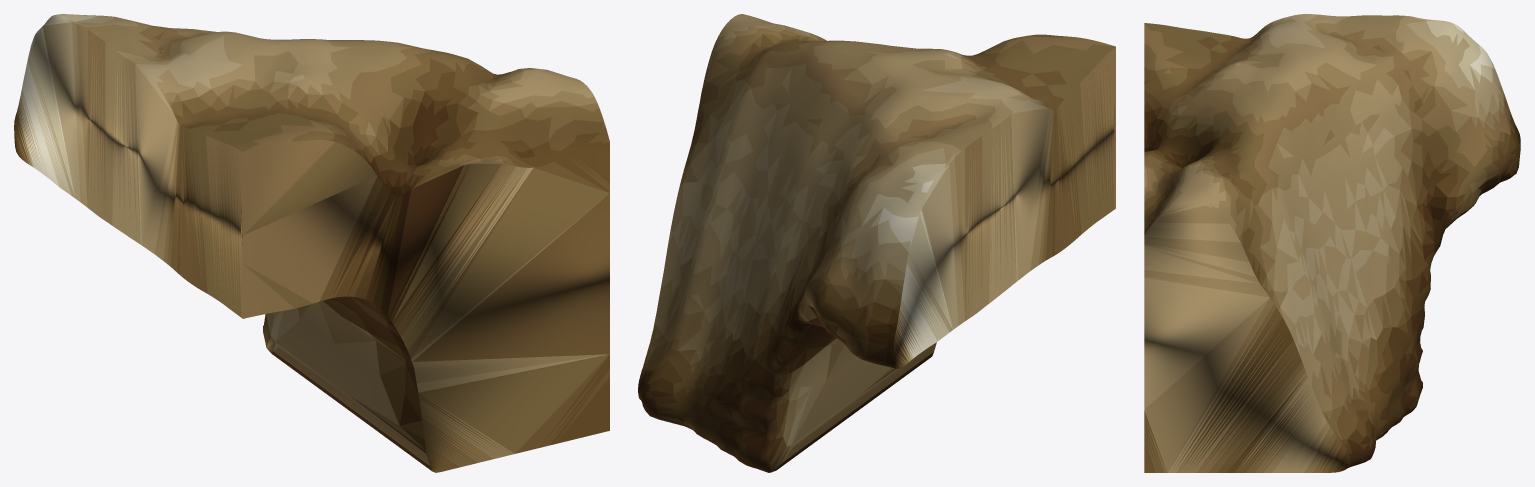
File: rock_arch_241.glb
3 views of the same model, side by side, from view 1: azimuth 30°, elevation 25°; view 2: azimuth 150°, elevation 25°; view 3: azimuth 270°, elevation 25° (orthographic). The views are drawn at different scales.
Parts seen in each view (by area): view 1: rock_arch_241; view 2: rock_arch_241; view 3: rock_arch_241.
Part boxes in pixels (<box>): rock_arch_241: <box>14,14,609,472</box>; rock_arch_241: <box>638,14,1115,472</box>; rock_arch_241: <box>1144,14,1520,472</box>.
Bounding box in the file's own units: 24 × 23.87 × 25.93.
